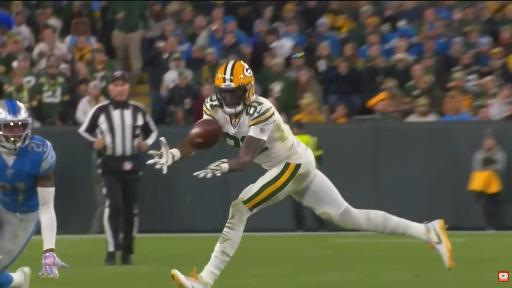Helmet: (214, 60, 254, 114), (0, 99, 31, 150)
Jersey: (204, 95, 314, 169), (0, 136, 56, 213)
Player: (172, 61, 453, 287), (0, 100, 66, 287)
